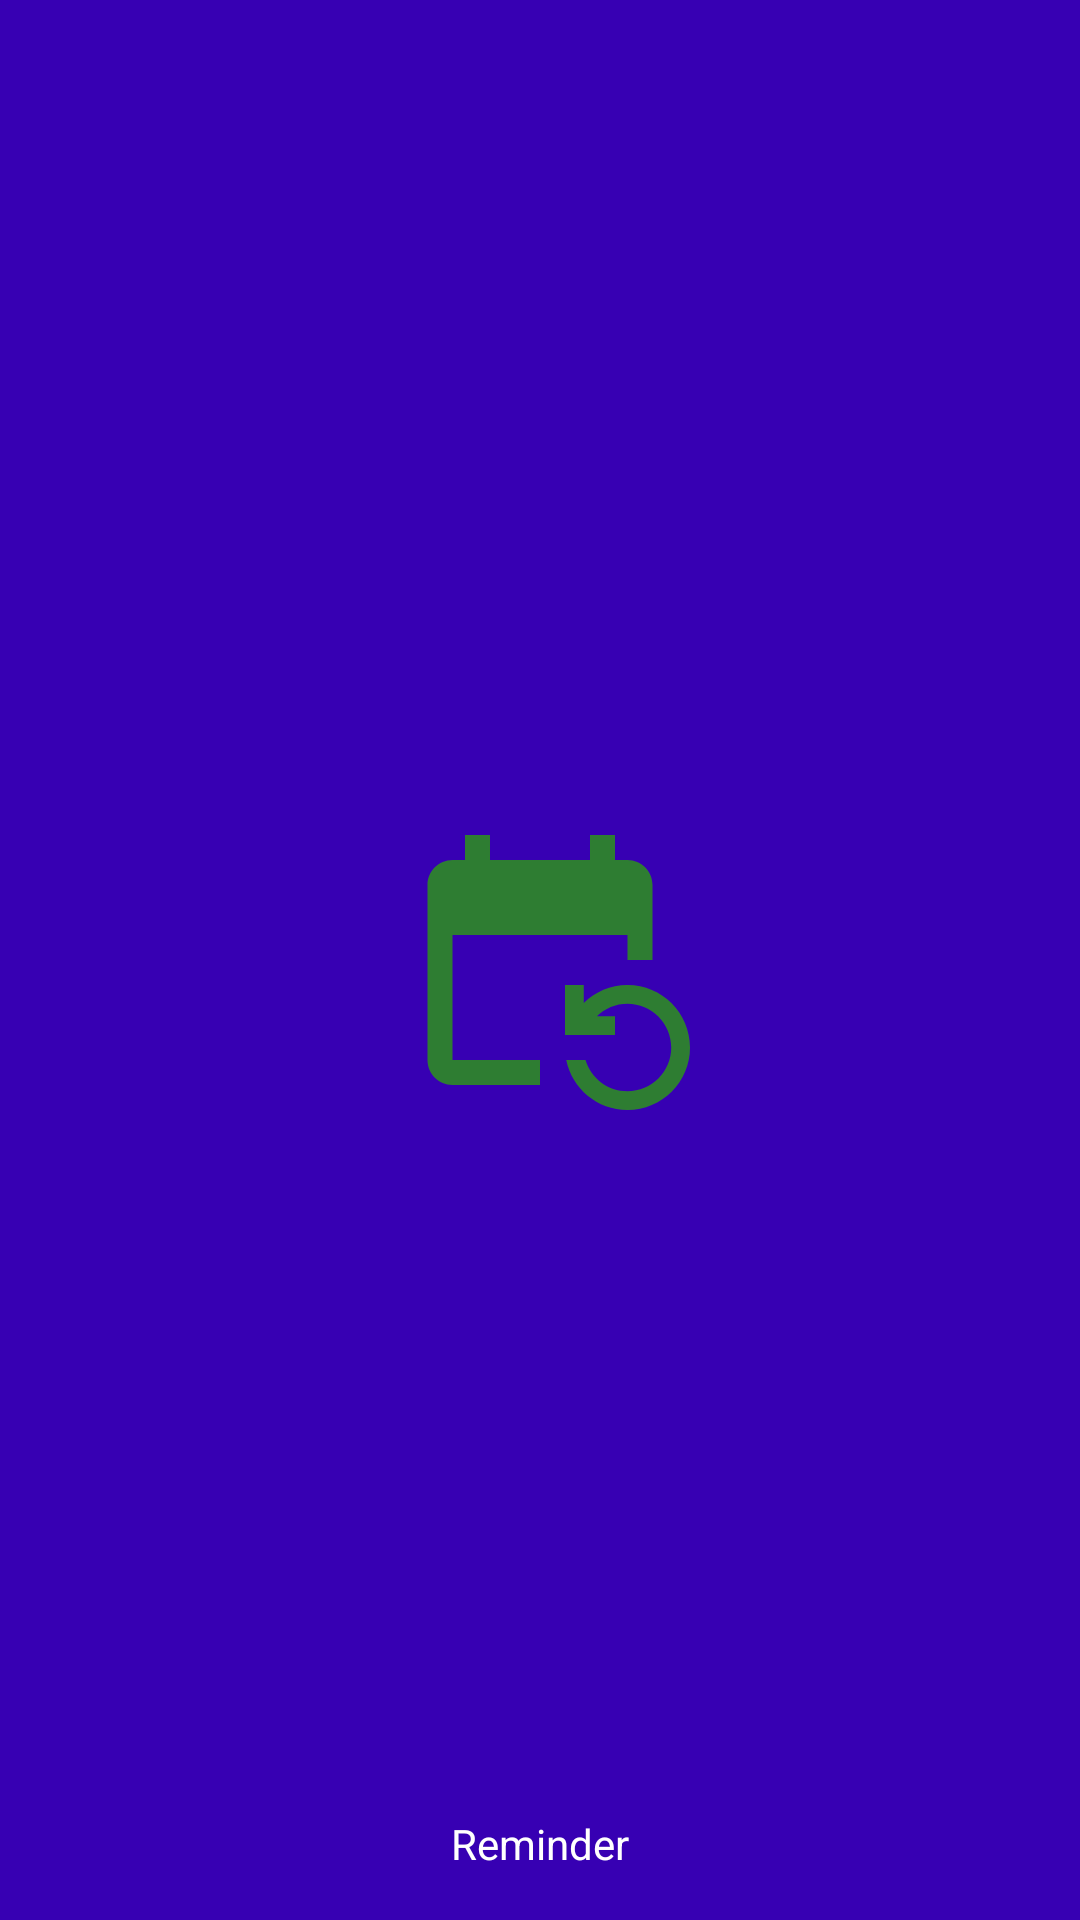

Screen size 1080×1920. Icon name, then its center in pixels as point (x, y):
event repeat: point (558, 972)
